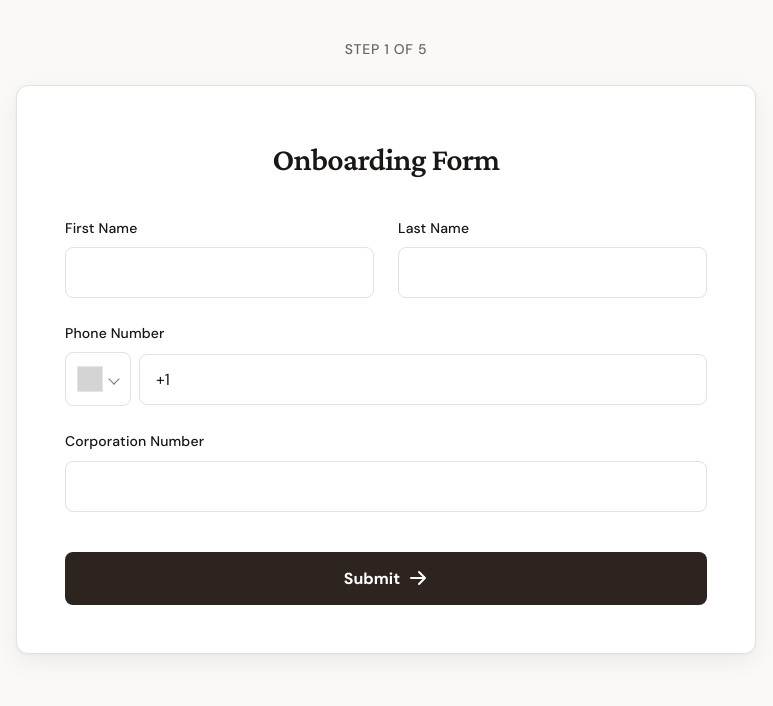
Test: OnboardingForm › 08 - shows validation errors when submitting empty form
Click the button "Submit": [386, 578] box [65,552,707,605]
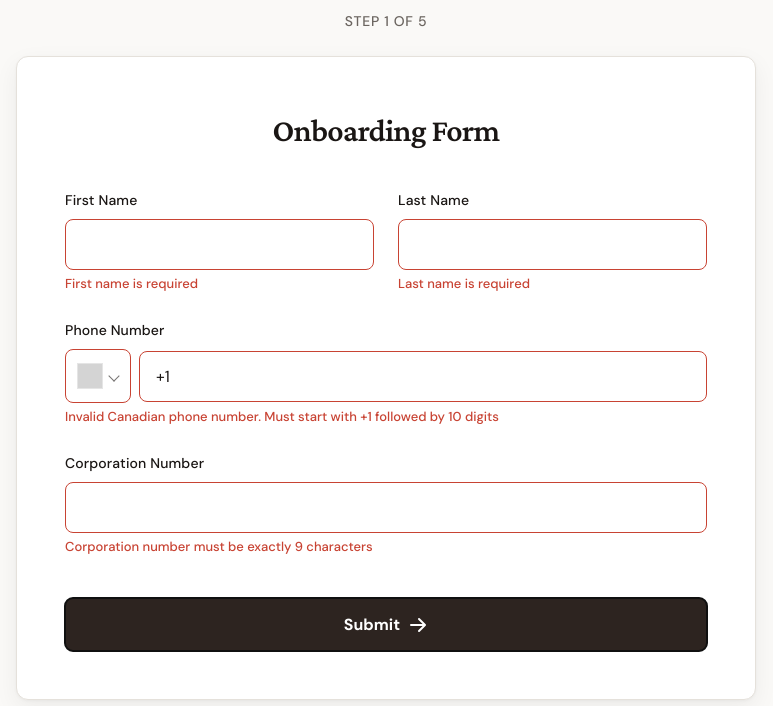
Now the text "First name is required" is shown, box [65,275,198,292]
Now the text "Last name is required" is shown, box [398,275,530,292]
Now the text "Invalid Canadian phone number. Must start with +1 followed by 10 digits" is shown, box [65,408,499,425]
